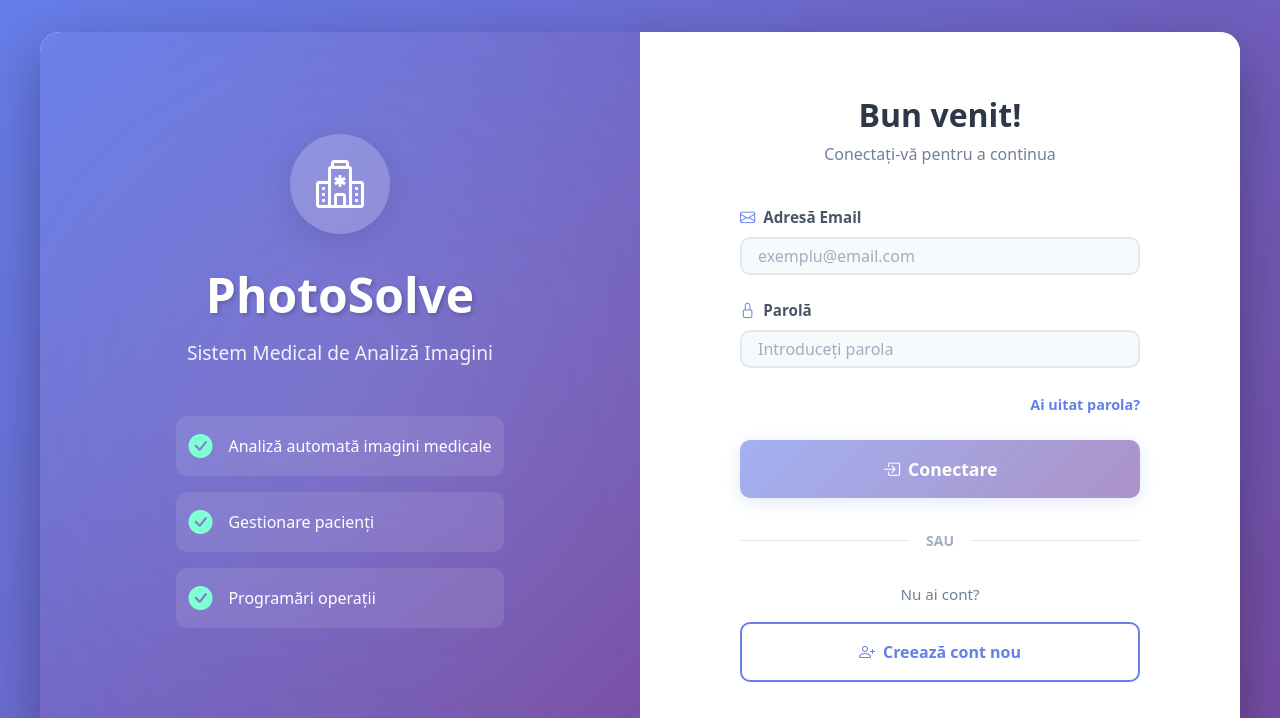
Scenario: Mesagerie Tests › 17. Should display users list
Type "roxanaelena111111@gmail.com" into the field labelled "Adresă Email" at (940,256), box [740,237,1140,275]
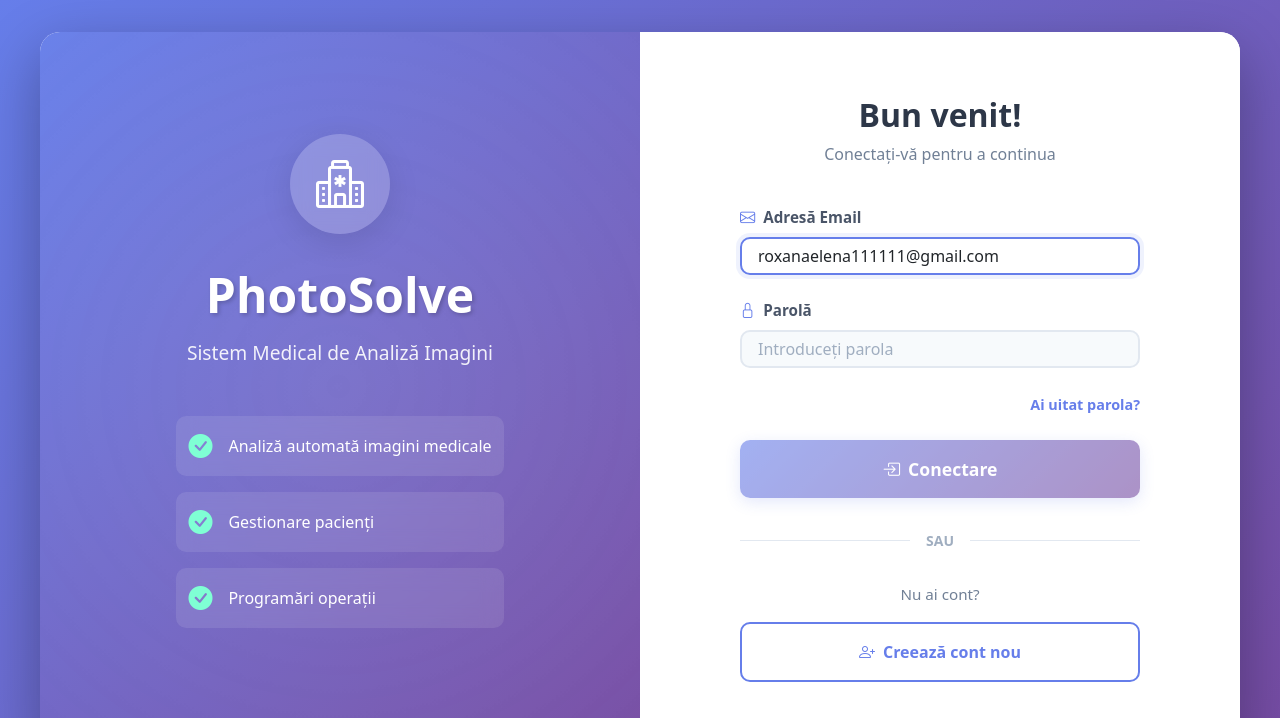
Type "123456" into the password field labelled "Parolă" at (940,349), box [740,330,1140,368]
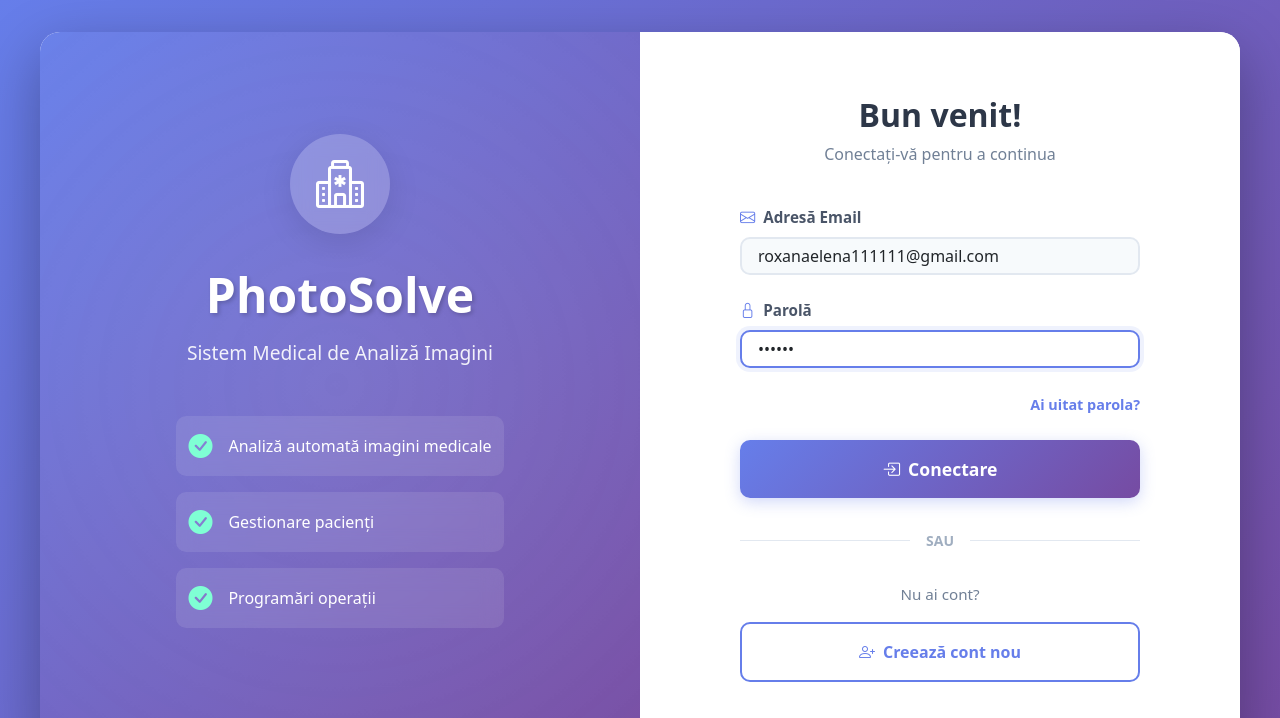
Click the submit button at (940,469), box [740,440,1140,498]
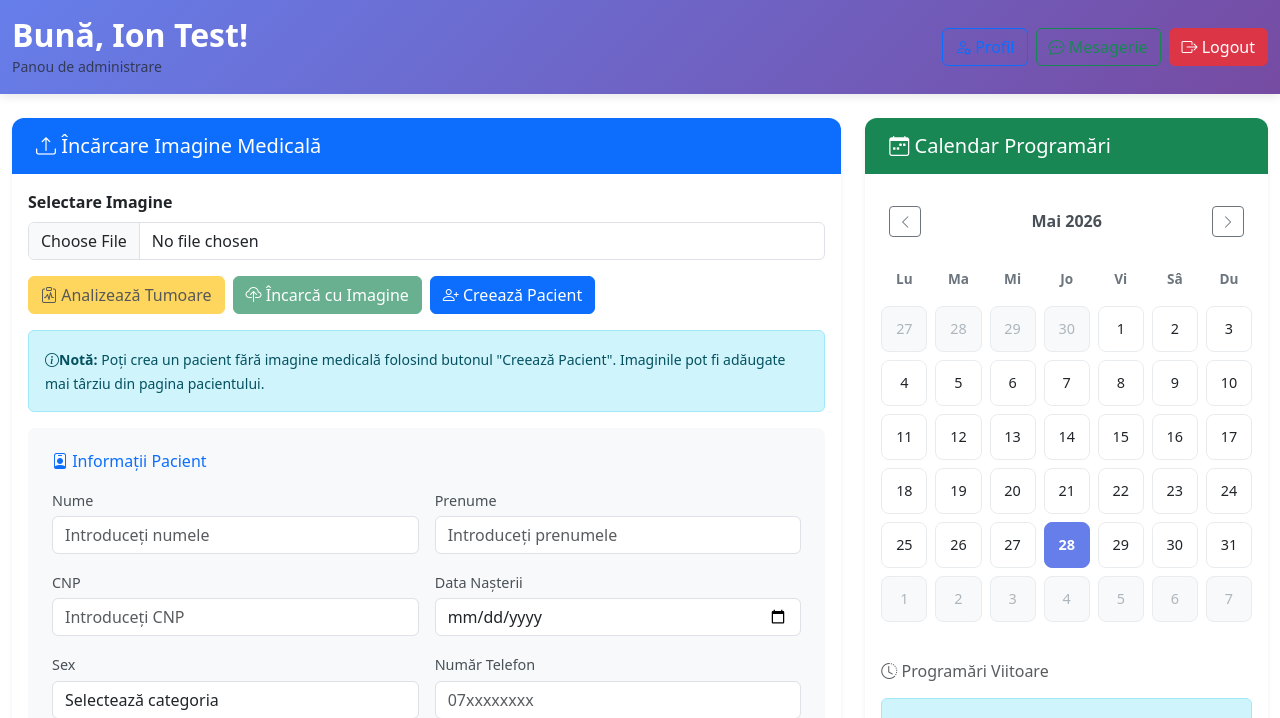
Open "/mesagerie"
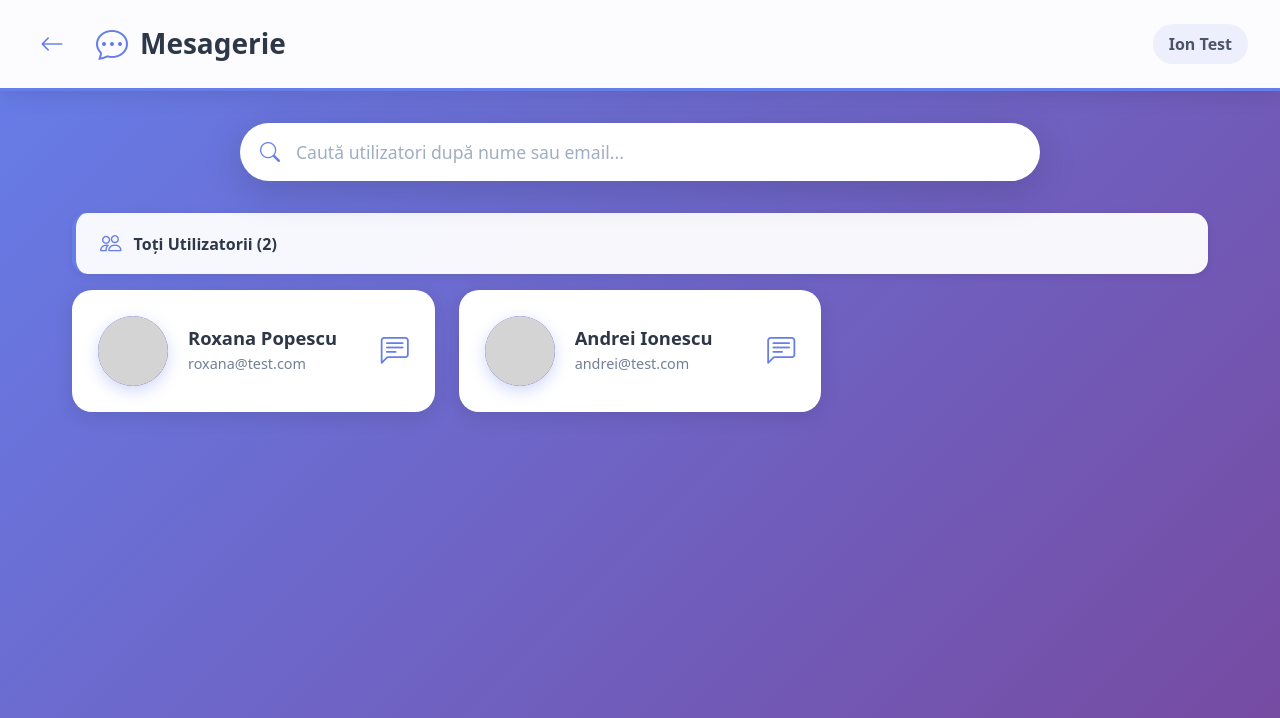
Result: the element with class "users-list" is shown at [40,213,1240,443]
Result: the number of elements with class "user-card" is more than 0
